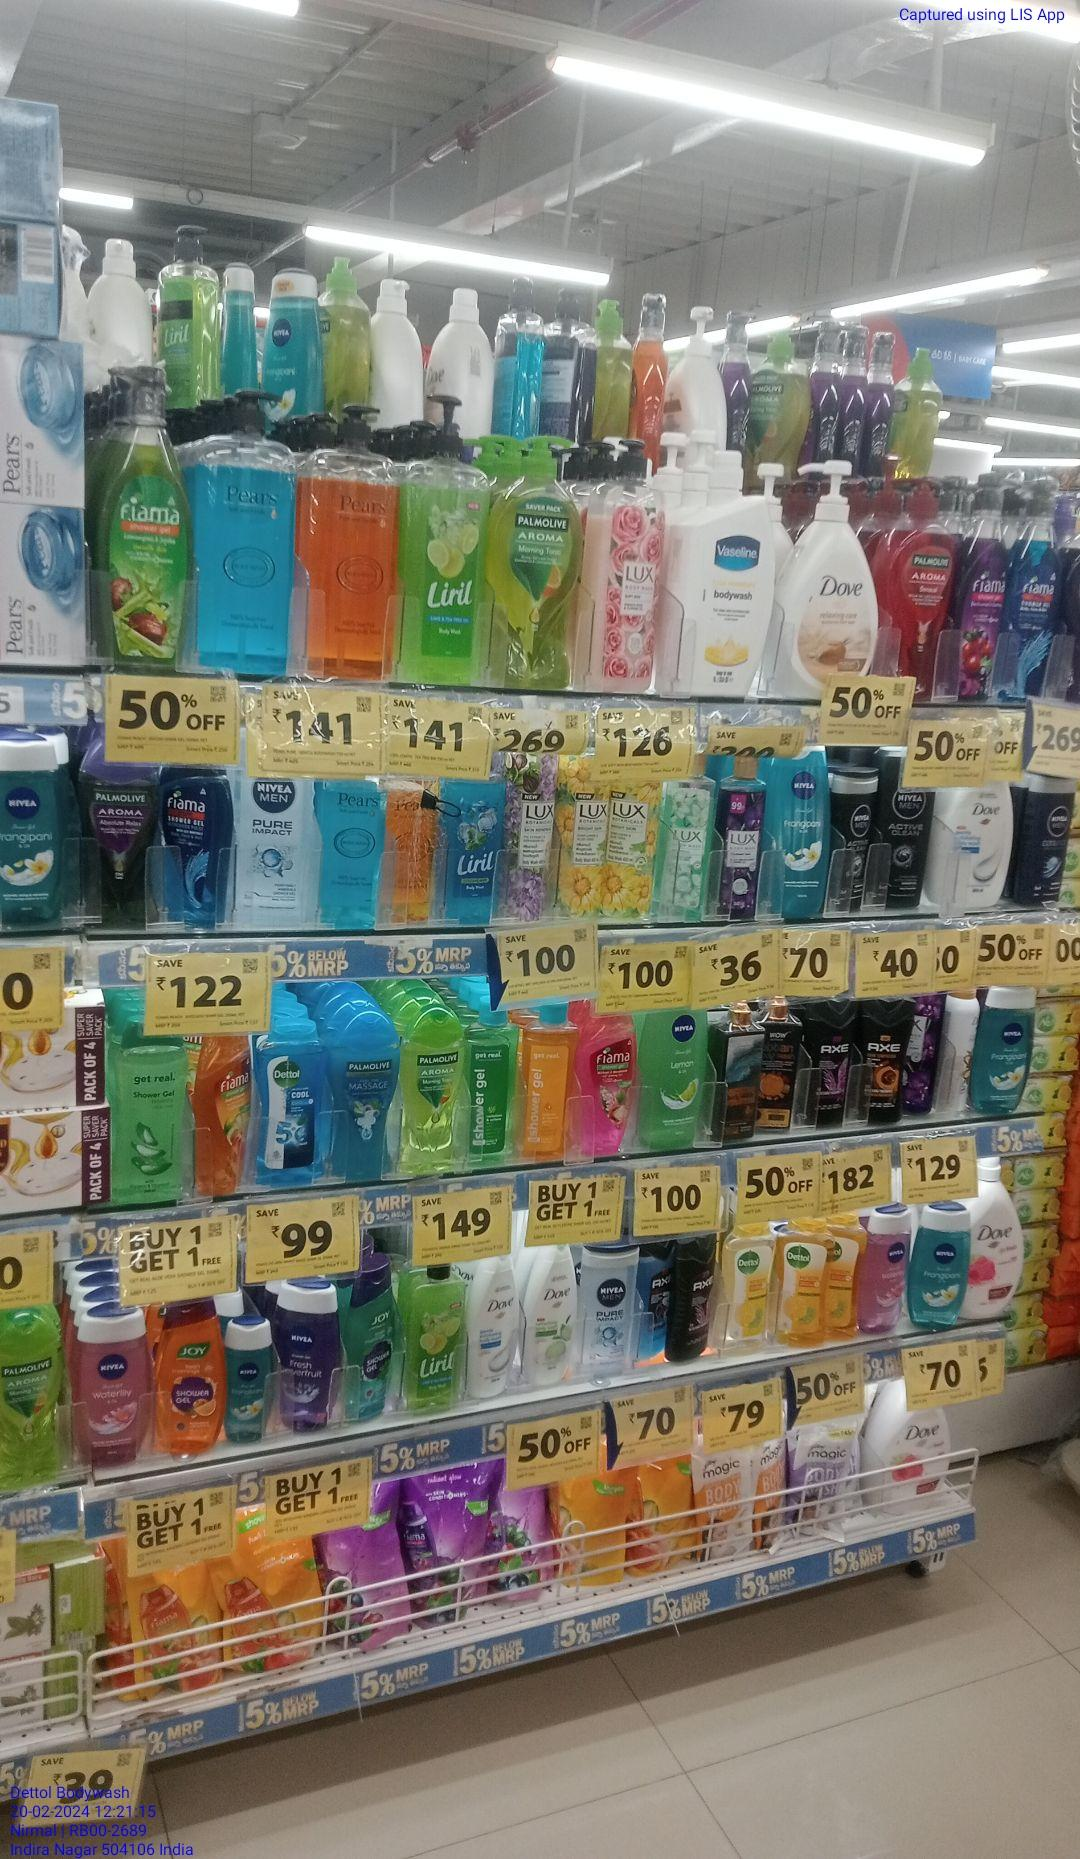Dettol_Bodywash_Cool: (255, 1028, 323, 1183)
Dettol_Bodywash_Refresh: (779, 1220, 829, 1345), (725, 1220, 774, 1347), (832, 1215, 860, 1337)
Dove_Gentle_Exfoliating_Body_Wash_250ML: (471, 1259, 518, 1397)
Dove_Refreshing_Body_Wash_250ML: (525, 1248, 577, 1383)
Fiama_Shower_Gel_Patchouli_and_Macadamia_250ML: (580, 1016, 635, 1156)
Fiama_Shower_Gel_Peach_and_Avocado_250ML: (198, 1035, 253, 1196)
Joy_Shower_Gel_Mandarin_and_Lemongrass_250ML: (158, 1304, 224, 1455)
Joy_Shower_Gel_Mint_and_Eucalyptus_250ML: (346, 1274, 395, 1419)
Liril_Cooling_Mint_Body_Wash_250ML: (442, 777, 500, 919)
Liril_Lime_and_Tea_Tree_Oil_Body_Wash_250ML: (405, 1265, 467, 1412)
Lux_Black_Orchid_Scent_and_Juniper_Oil_Body_Wash_245ML: (720, 756, 765, 921)
Lux_Body_Wash_Skin_Detox_Freesia_Scent_and_Alove_Vera_245ML: (663, 779, 714, 914)
Nivea_Shower_Gel_Frangipani_and_Oil_250ML: (0, 732, 67, 926), (769, 751, 829, 917), (265, 267, 325, 417), (909, 1205, 971, 1327), (977, 987, 1034, 1112)
Nivea_Shower_Gel_Fresh_Powerfruit_250ML: (279, 1280, 336, 1435)
Nivea_Shower_Gel_Lemon_and_Oil_250ML: (644, 1007, 707, 1151)
Nivea_Shower_Gel_Waterlily_and_Oil_250ML: (76, 1314, 150, 1468), (864, 1207, 906, 1333)
Palmolive_Aroma_Moments_Feel_The_Massage_Shower_Gel_250ML: (332, 1010, 396, 1185)
Palmolive_Aroma_Morning_Tonic_Shower_Gel_250ML: (0, 1319, 60, 1484), (401, 1017, 463, 1169)
Palmolive_Aroma_Relax_250ML: (76, 752, 161, 930)
